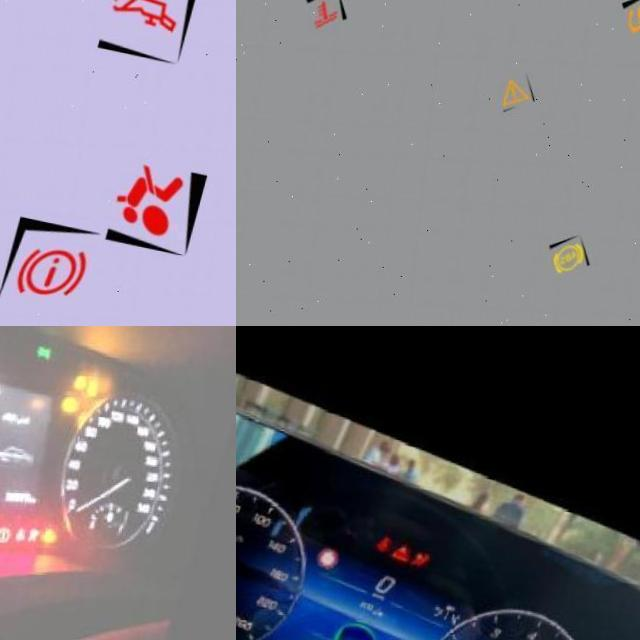Seat Belt: (34, 517, 48, 532)
